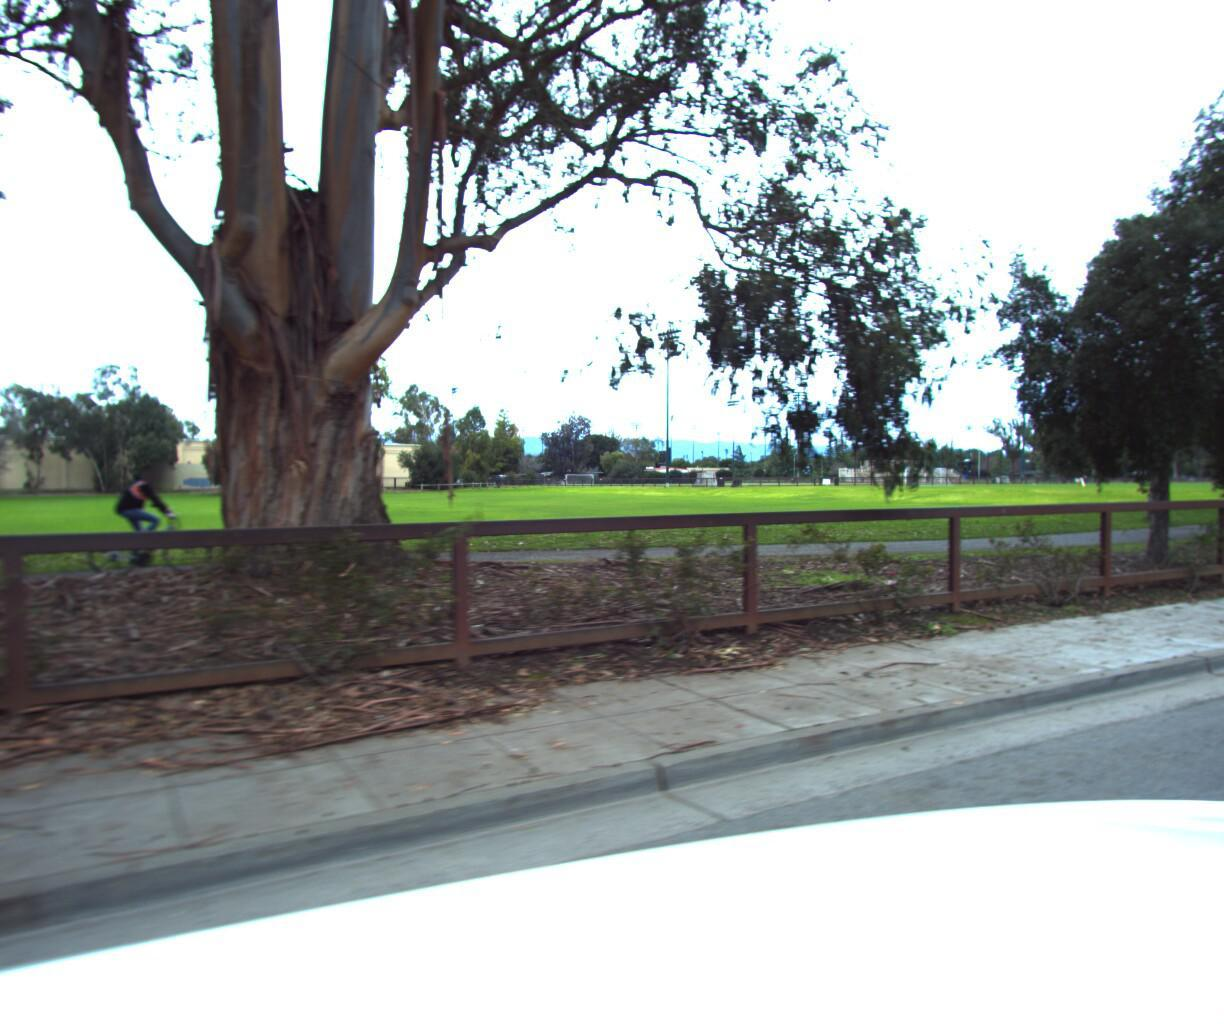bicycle: (81, 447, 225, 583)
